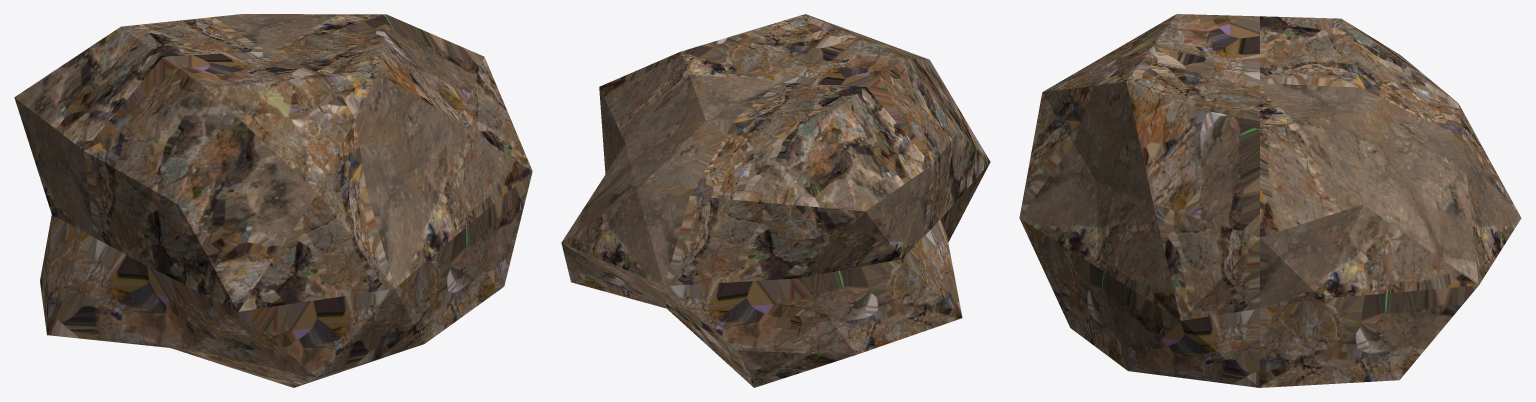
Rendered from stone.glb.
3 views of the same model, side by side, from view 1: azimuth 30°, elevation 25°; view 2: azimuth 150°, elevation 25°; view 3: azimuth 270°, elevation 25° (orthographic). The views are drawn at different scales.
Parts seen in each view (by area): view 1: Stone; view 2: Stone; view 3: Stone.
Boxes of the visible parts, left/top/right/bottom form: Stone: left=14, top=14, right=532, bottom=387; Stone: left=561, top=14, right=990, bottom=387; Stone: left=1019, top=14, right=1521, bottom=387.
Size of the model in its own units: 0.1629 by 0.1192 by 0.1697.
1 material, 1 textured.
